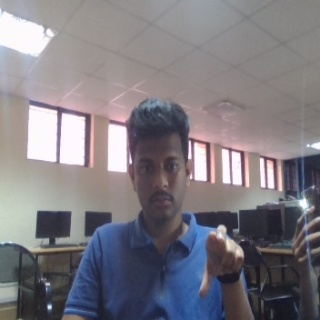No: (197, 224, 245, 298)
